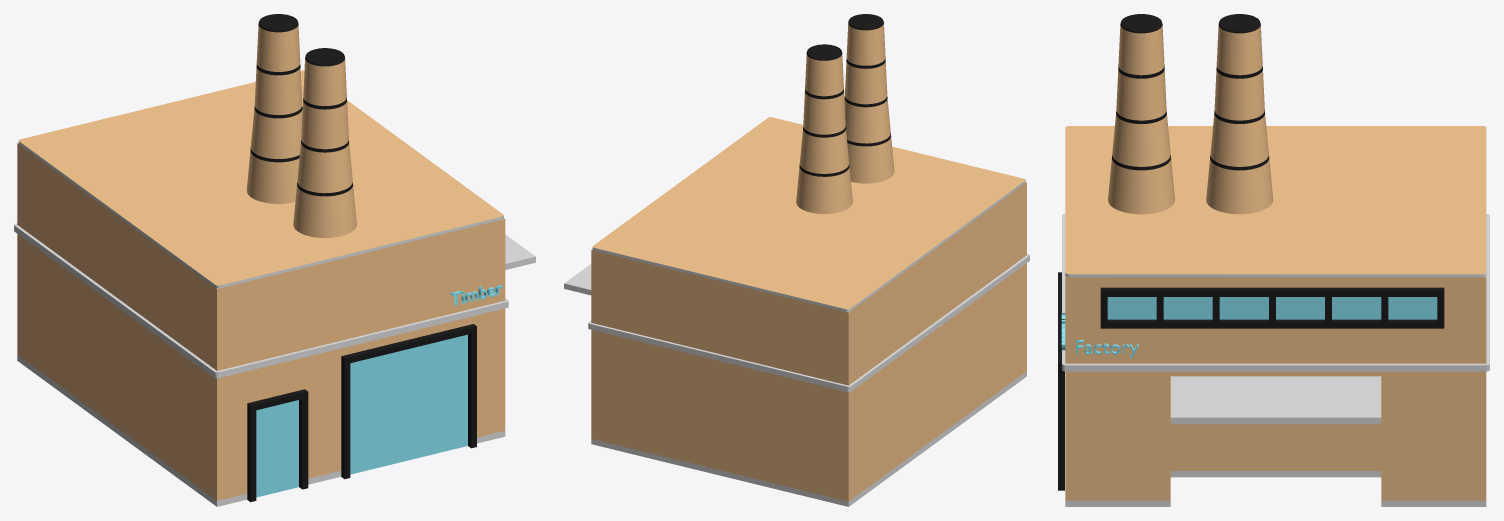
File: LogFactory.fbx
The picture shows the model from 3 angles, left to right: view 1: azimuth 30°, elevation 25°; view 2: azimuth 150°, elevation 25°; view 3: azimuth 270°, elevation 25°; orthographic projection. The views are drawn at different scales.
Parts seen in each view (by area): view 1: Factory; view 2: Factory; view 3: Factory.
Boxes of the visible parts, bbox=[...] form: Factory: bbox=[14, 14, 535, 506]; Factory: bbox=[564, 14, 1029, 506]; Factory: bbox=[1058, 14, 1489, 506].
Size of the model in its own units: 1934 by 1935 by 1847.
